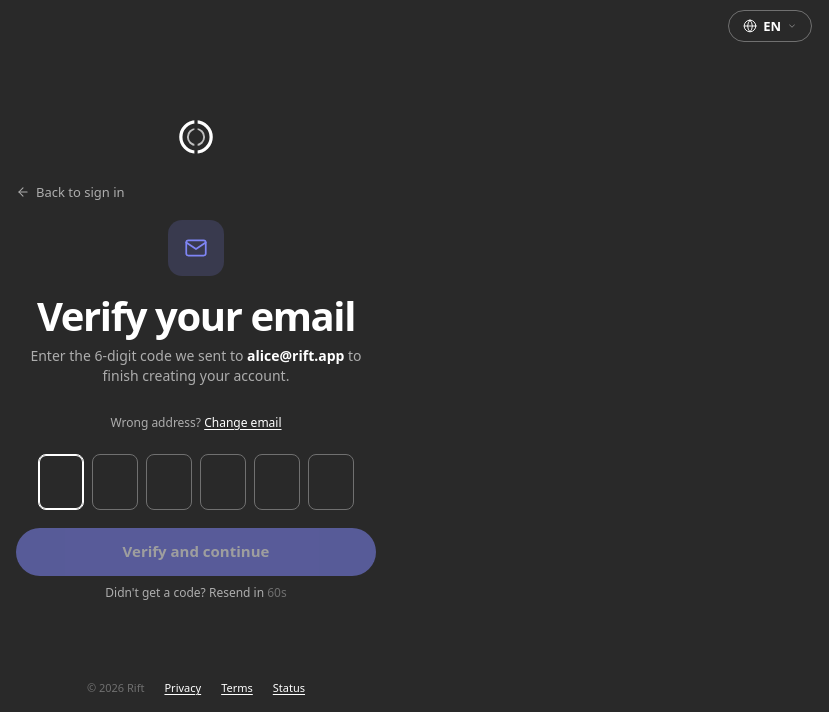
Scenario: leaving email verification drops the unverified session and opens sign in
Click the button "Back to sign in" at coordinates (80, 192), box [16, 183, 376, 202]
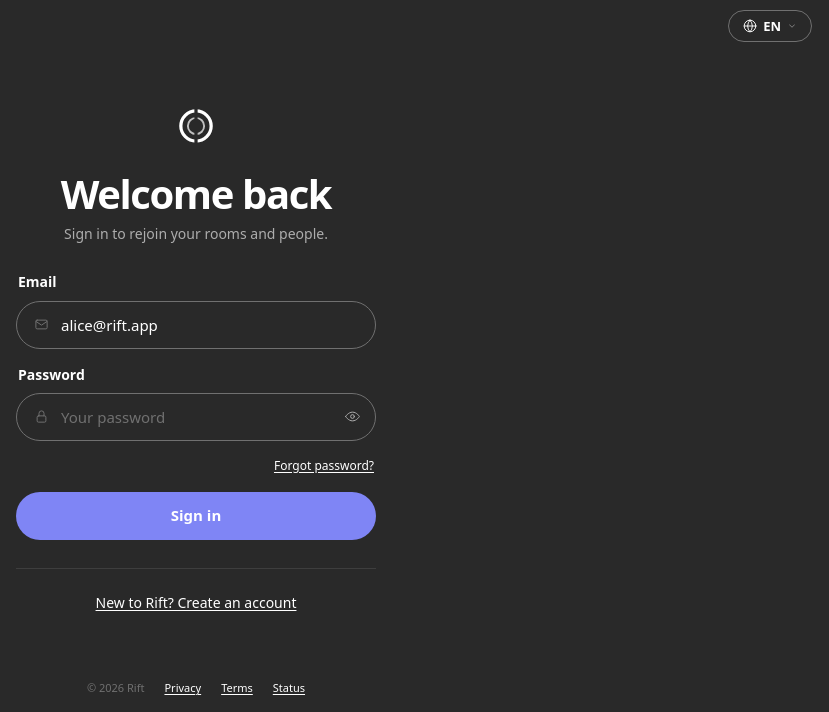
Now the button "Back to sign in" is gone
